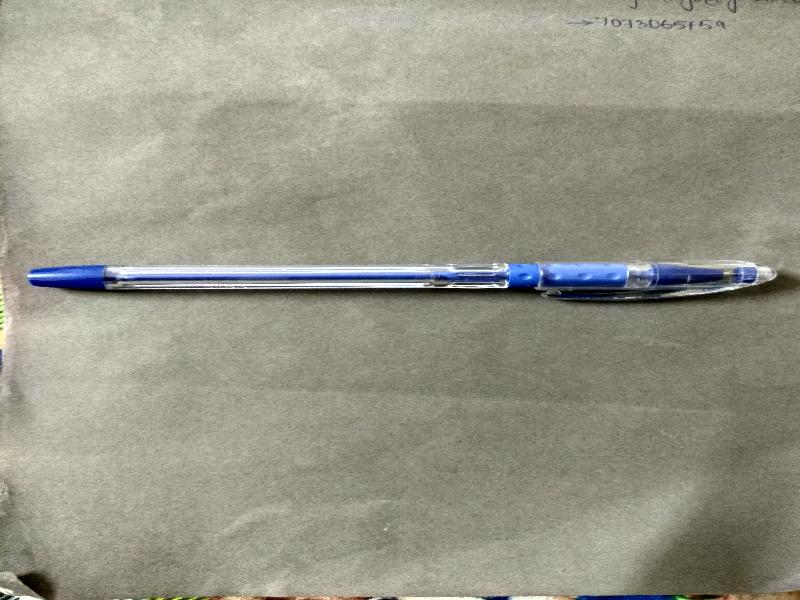pen: (24, 256, 781, 309)
